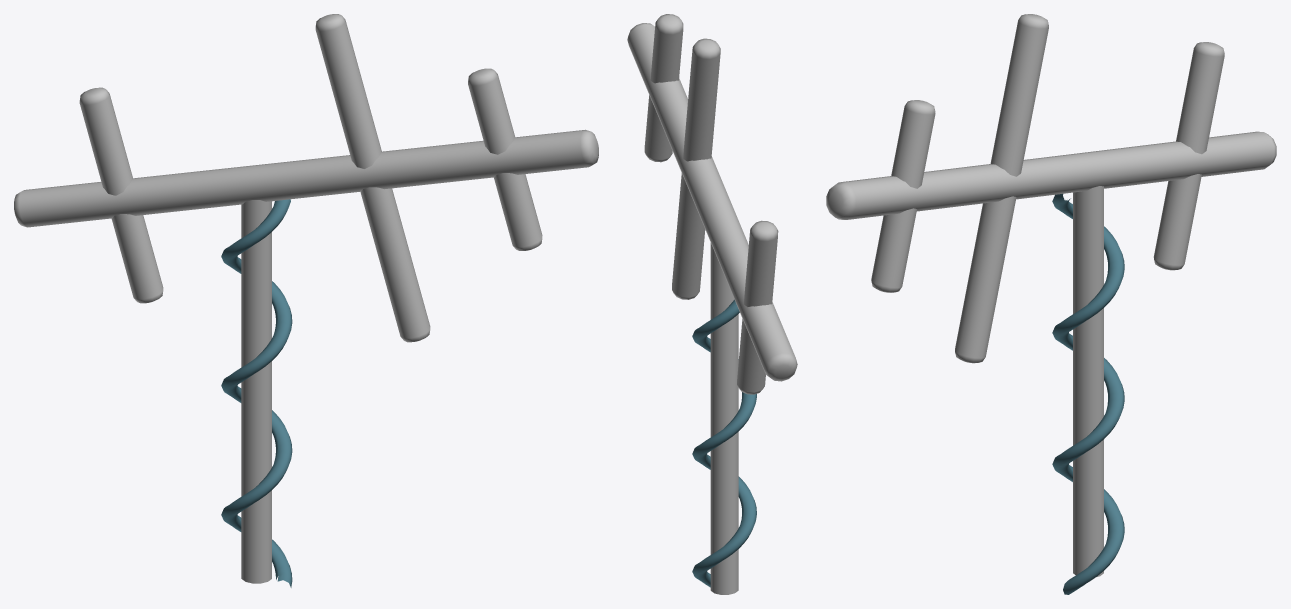
The model's file is City_1_Antenna_2.glb.
The picture shows the model from 3 angles, left to right: view 1: azimuth 30°, elevation 25°; view 2: azimuth 150°, elevation 25°; view 3: azimuth 270°, elevation 25°; orthographic projection. The views are drawn at different scales.
Parts seen in each view (by area): view 1: City_1_Antenna_2; view 2: City_1_Antenna_2; view 3: City_1_Antenna_2.
Boxes of the visible parts, x1,y1,x2,y2 form: City_1_Antenna_2: (14,14,598,587); City_1_Antenna_2: (627,14,797,594); City_1_Antenna_2: (826,14,1276,594).
Bounding box in the file's own units: 1.99 × 2.9 × 1.99.
1 material, 1 textured.
